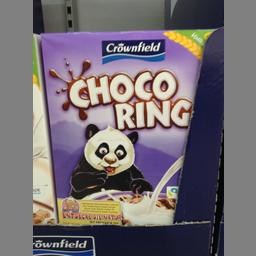cereal: (40, 28, 216, 222)
